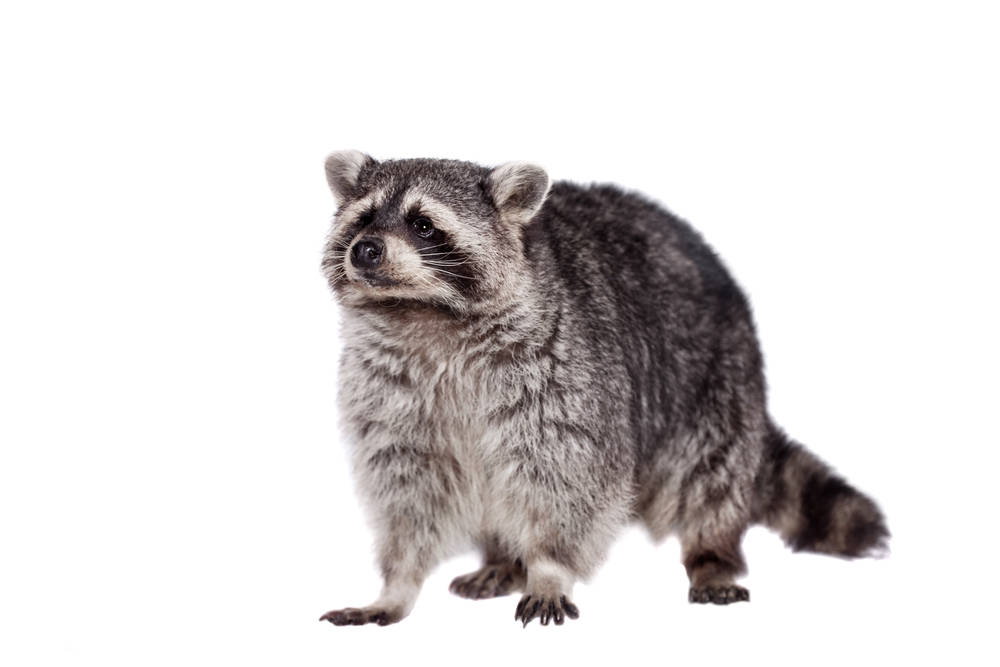raccoon: (296, 139, 893, 643)
